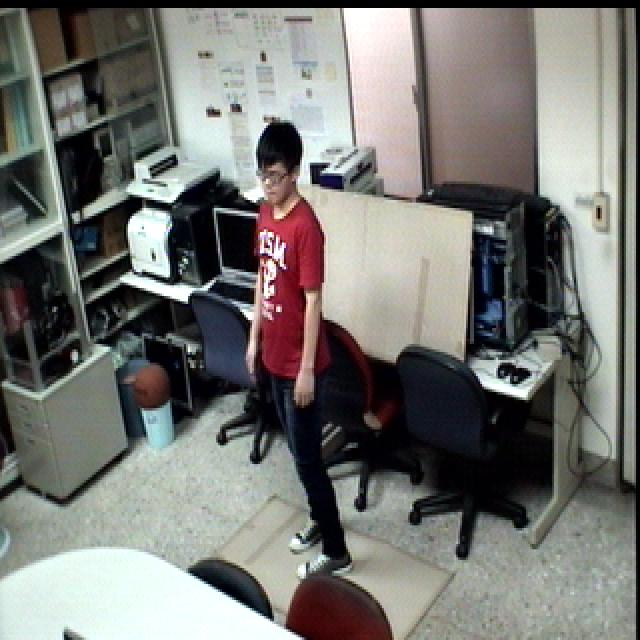stand: (240, 113, 359, 589)
